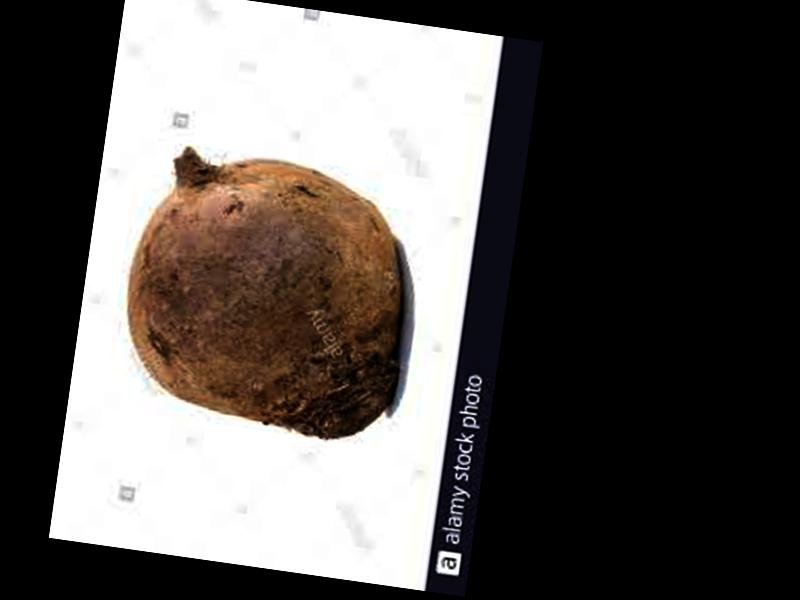Beet: (111, 140, 424, 445)
